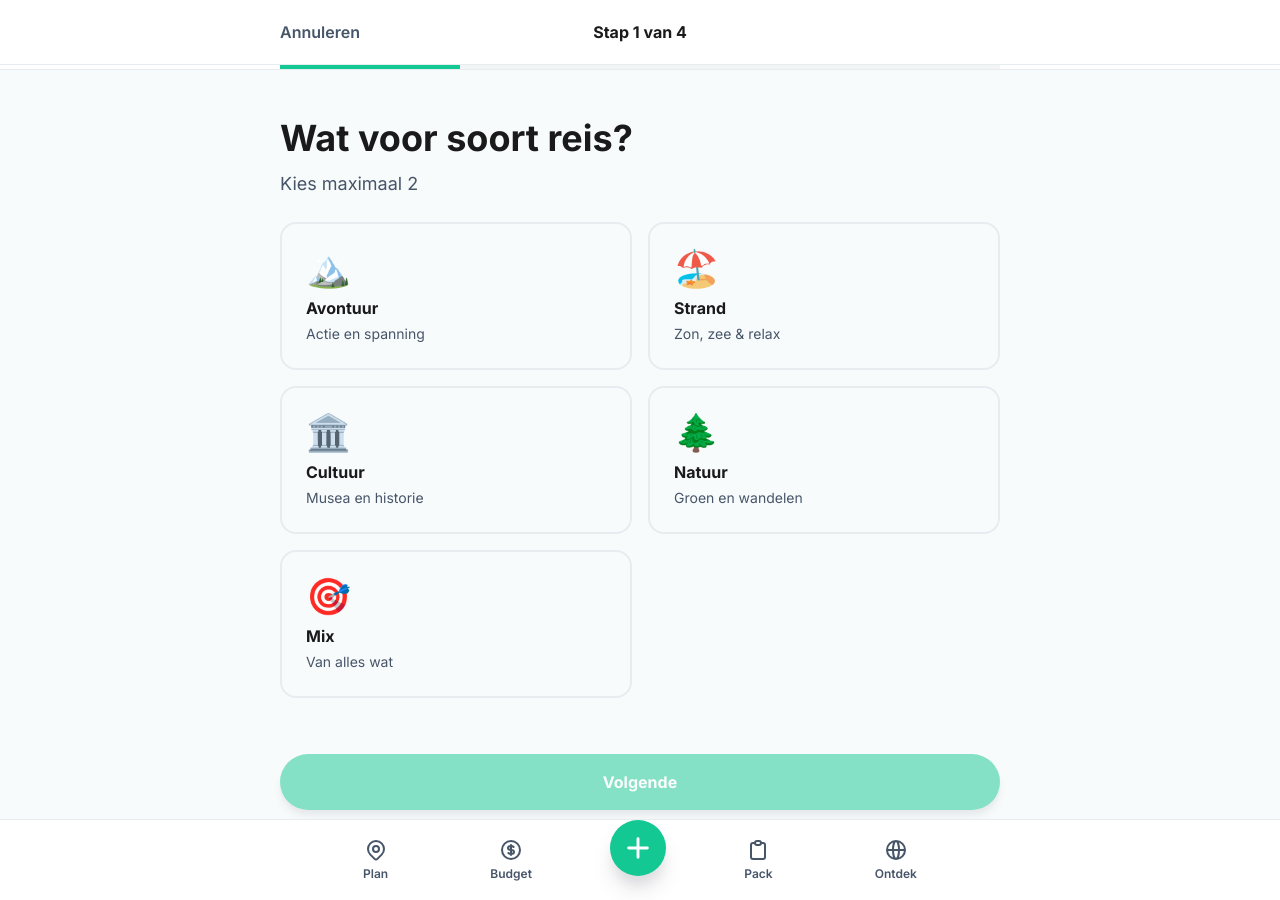
NewTripForm Validation - Unit Tests › Step 2: Destination Validation › should disable next button when destination is empty
Navigate to step 2
Click the button "🏔️ Avontuur Actie en spanning": (328,268) [280, 222, 632, 370]
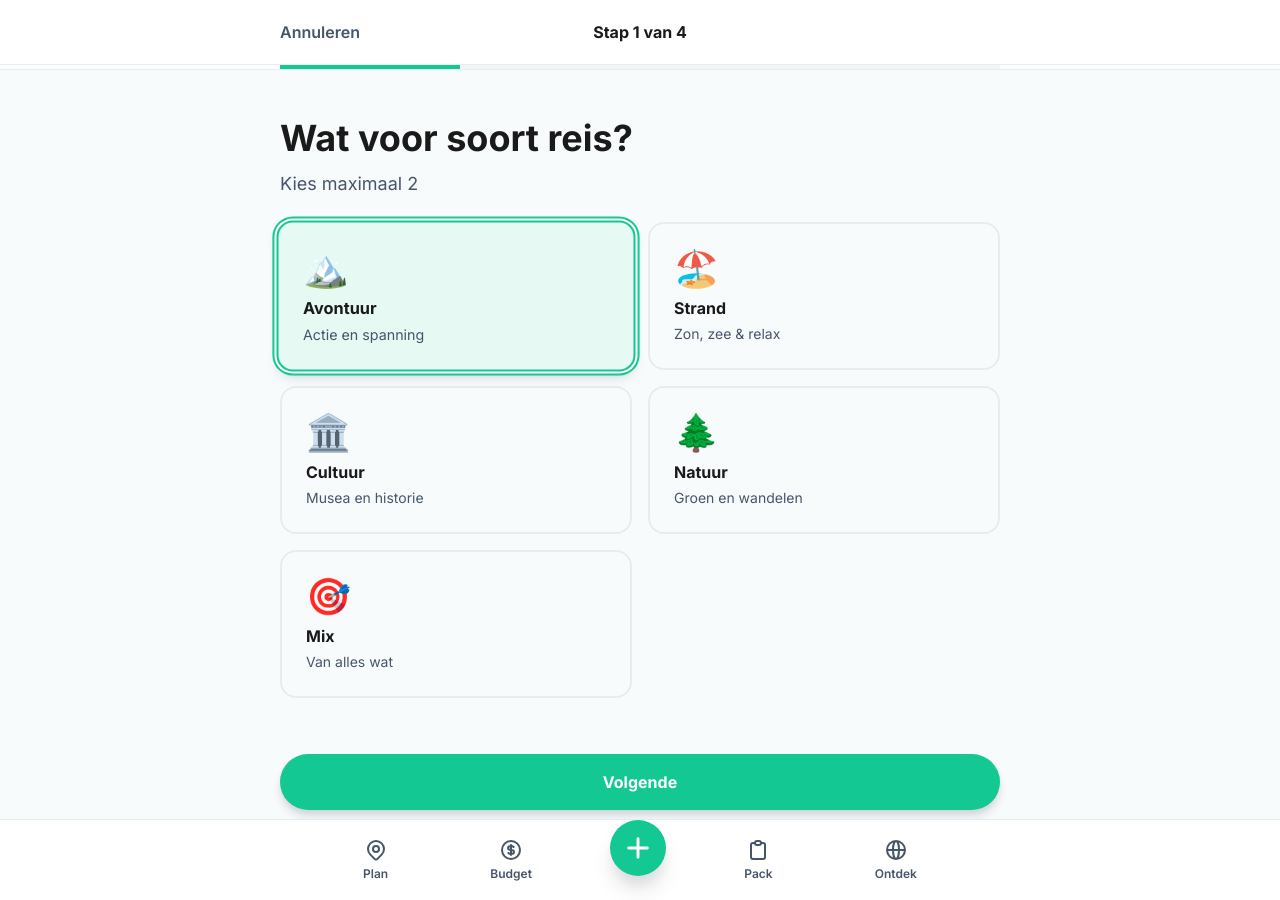
Click the button "Volgende": (640,782) [280, 754, 1000, 810]
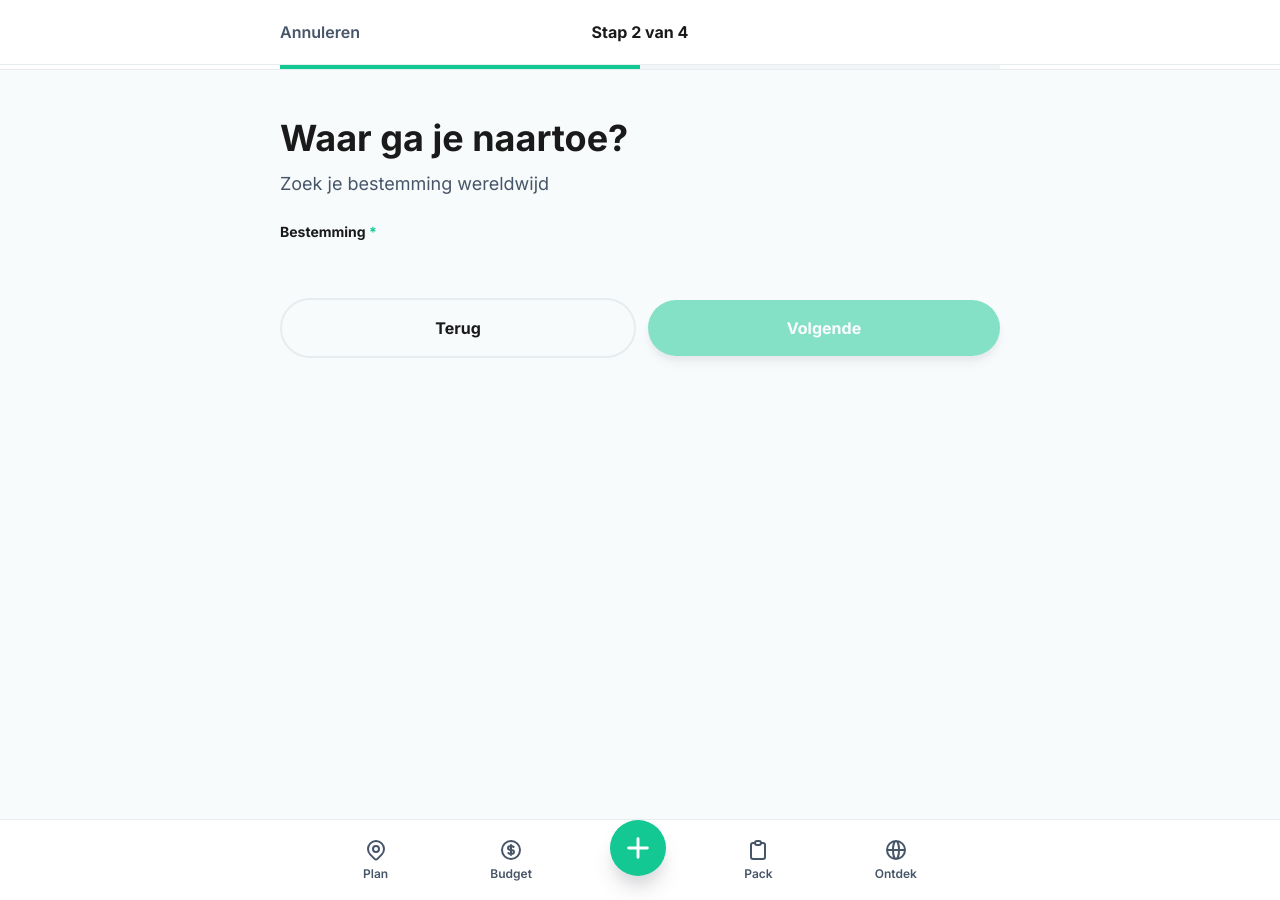
Now the button "Volgende" is disabled, box [648, 300, 1000, 356]
